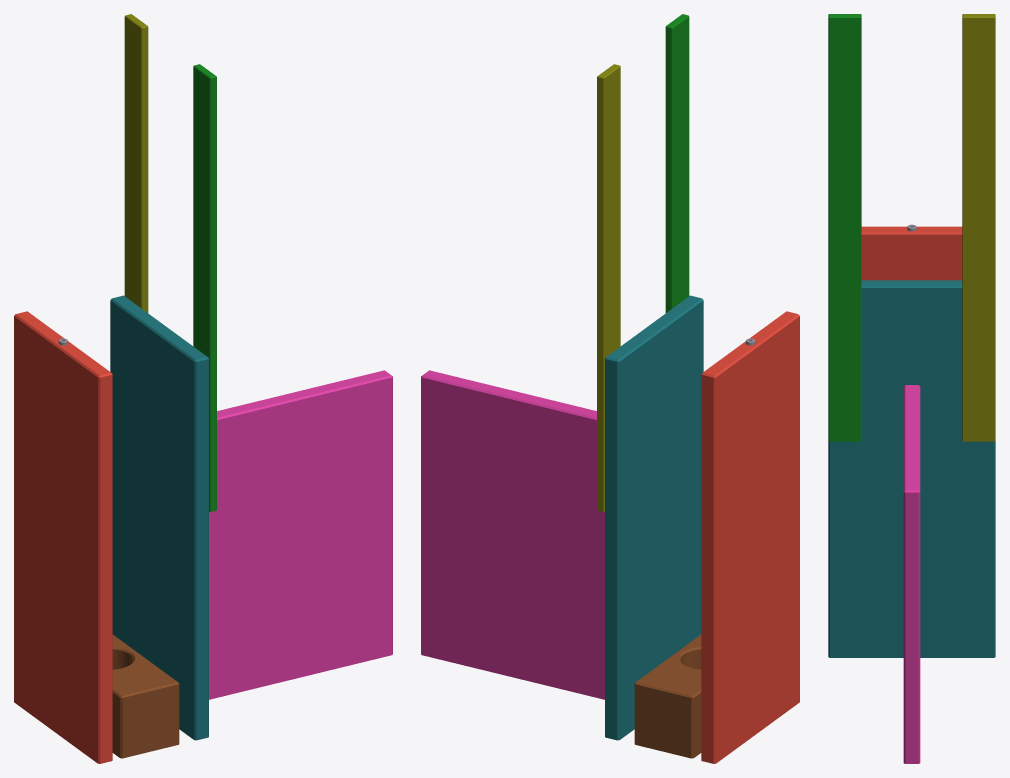
Rendered from MontageVorrichtung 1.fbx.
3 views of the same model, side by side, from view 1: azimuth 30°, elevation 25°; view 2: azimuth 150°, elevation 25°; view 3: azimuth 270°, elevation 25° (orthographic). The views are drawn at different scales.
Visible parts, largest first — view 1: Solid1; view 2: Solid1; view 3: Solid1.
Part boxes in pixels (box(x1,y1,x2,y2)): Solid1: box(14, 14, 392, 763); Solid1: box(421, 14, 799, 763); Solid1: box(828, 14, 995, 763).
Bounding box in the file's own units: 10000 × 42500 × 22500.
